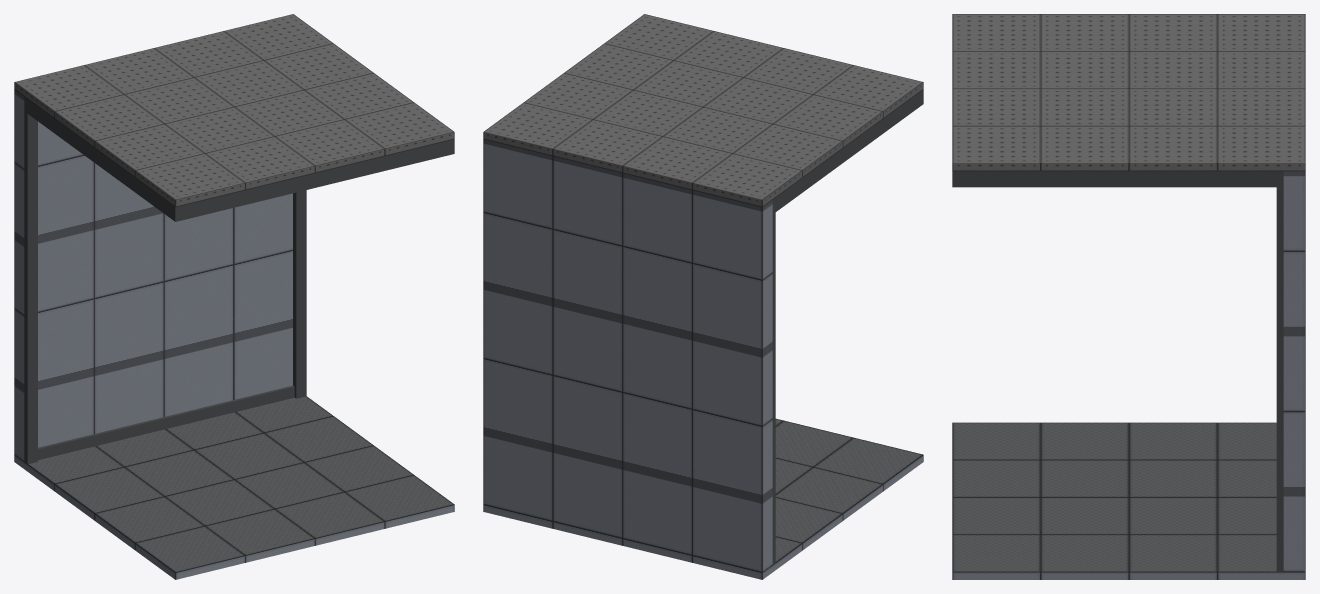
Rendered from Room_SciFi_Wall.glb.
3 views of the same model, side by side, from view 1: azimuth 30°, elevation 25°; view 2: azimuth 150°, elevation 25°; view 3: azimuth 270°, elevation 25° (orthographic). The views are drawn at different scales.
Visible parts, largest first — view 1: Room_SciFi_Wall, Room_SciFi_Wall_Ceiling; view 2: Room_SciFi_Wall, Room_SciFi_Wall_Ceiling; view 3: Room_SciFi_Wall, Room_SciFi_Wall_Ceiling.
Part boxes in pixels (x1,y1,x2,y2): Room_SciFi_Wall: (14, 90, 454, 579); Room_SciFi_Wall_Ceiling: (14, 14, 454, 221); Room_SciFi_Wall: (483, 139, 923, 579); Room_SciFi_Wall_Ceiling: (483, 14, 923, 211); Room_SciFi_Wall: (952, 171, 1305, 579); Room_SciFi_Wall_Ceiling: (952, 14, 1305, 187).
Size of the model in its own units: 4 by 5.2 by 4.
Materials: 6 (3 with a texture image).
